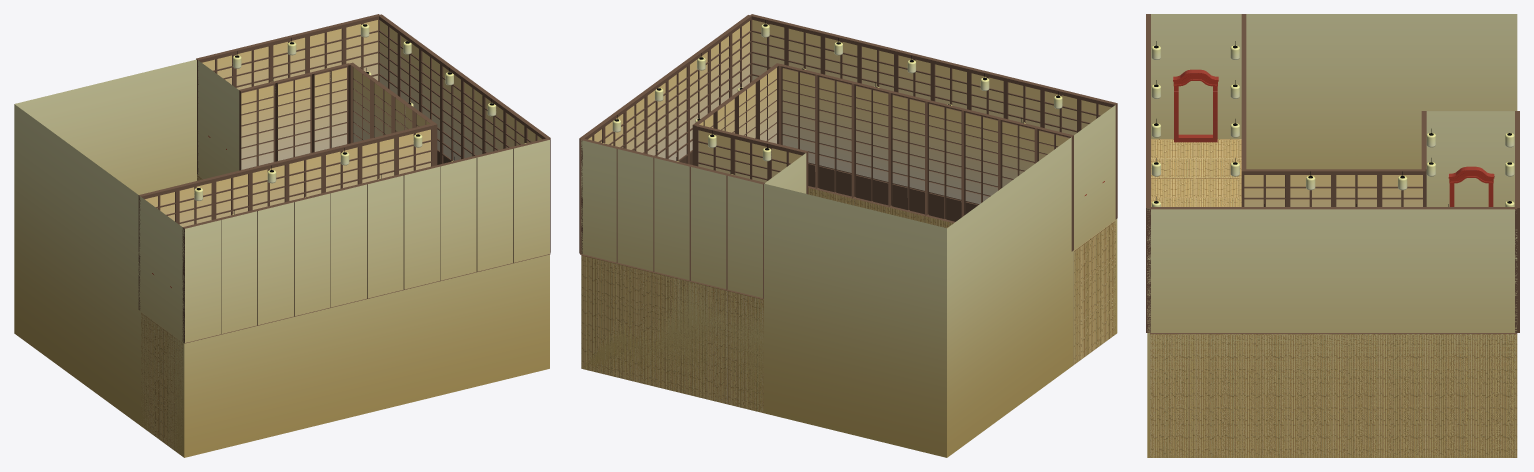
The model's file is Tutorial_02.fbx.
3 views of the same model, side by side, from view 1: azimuth 30°, elevation 25°; view 2: azimuth 150°, elevation 25°; view 3: azimuth 270°, elevation 25° (orthographic). The views are drawn at different scales.
Parts seen in each view (by area): view 1: Background_04, screenWall_04, screenWall_02, Base_01, Background_05, screenWall_03, screenWall_007, screenWall_004, screenWall_01, screenWall_006, screenWall_008, screenWall_009; view 2: Background_04, screenWall_02, screenWall_01, Base_03, Base_02, Base_01, screenWall_04, screenWall_03, screenWall_008, screenWall_009, screenWall_007, screenWall_006 (+2 smaller); view 3: Background_04, Base_02, Base_01, Background_05, screenWall_03, screenWall_01, doorStart_01, screenWall_04, screenWall_02, doorFinish_02, screenWall_004.
Part boxes in pixels (x1,y1,x2,y2): Background_04: [14, 59, 549, 457]; screenWall_04: [196, 24, 369, 174]; screenWall_02: [138, 124, 433, 310]; Base_01: [141, 312, 183, 454]; Background_05: [198, 60, 239, 179]; screenWall_03: [349, 62, 437, 165]; screenWall_007: [420, 45, 465, 164]; screenWall_004: [306, 14, 380, 81]; screenWall_01: [182, 138, 550, 343]; screenWall_006: [379, 14, 423, 111]; screenWall_008: [462, 76, 507, 158]; screenWall_009: [504, 107, 550, 252]; Background_04: [581, 105, 1117, 457]; screenWall_02: [779, 64, 1073, 251]; screenWall_01: [750, 14, 1117, 219]; Base_03: [654, 273, 763, 413]; Base_02: [581, 255, 654, 386]; Base_01: [808, 187, 1115, 364]; screenWall_04: [602, 124, 808, 299]; screenWall_03: [692, 63, 780, 165]; screenWall_008: [664, 46, 709, 164]; screenWall_009: [706, 15, 751, 111]; screenWall_007: [622, 76, 667, 158]; screenWall_006: [579, 107, 625, 253]; Background_04: [1147, 14, 1517, 457]; Base_02: [1241, 334, 1517, 457]; Base_01: [1150, 139, 1241, 457]; Background_05: [1426, 111, 1514, 206]; screenWall_03: [1241, 169, 1425, 206]; screenWall_01: [1146, 14, 1150, 332]; doorStart_01: [1173, 69, 1218, 142]; screenWall_04: [1421, 111, 1519, 206]; screenWall_02: [1241, 14, 1246, 169]; doorFinish_02: [1448, 166, 1494, 206]; screenWall_004: [1515, 169, 1519, 332].
Bounding box in the file's own units: 20.11 × 12.1 × 16.27.
